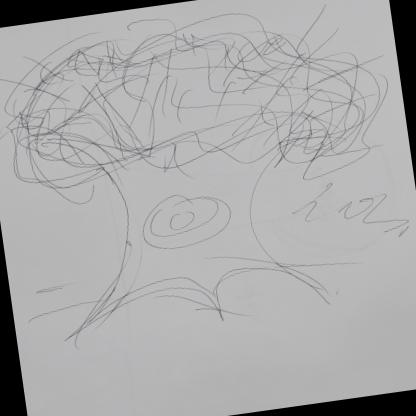crown_cloud: (0, 0, 396, 223)
knot: (138, 184, 238, 256)
root_upside: (59, 242, 347, 364)
trunk_reflex: (100, 164, 282, 272)
